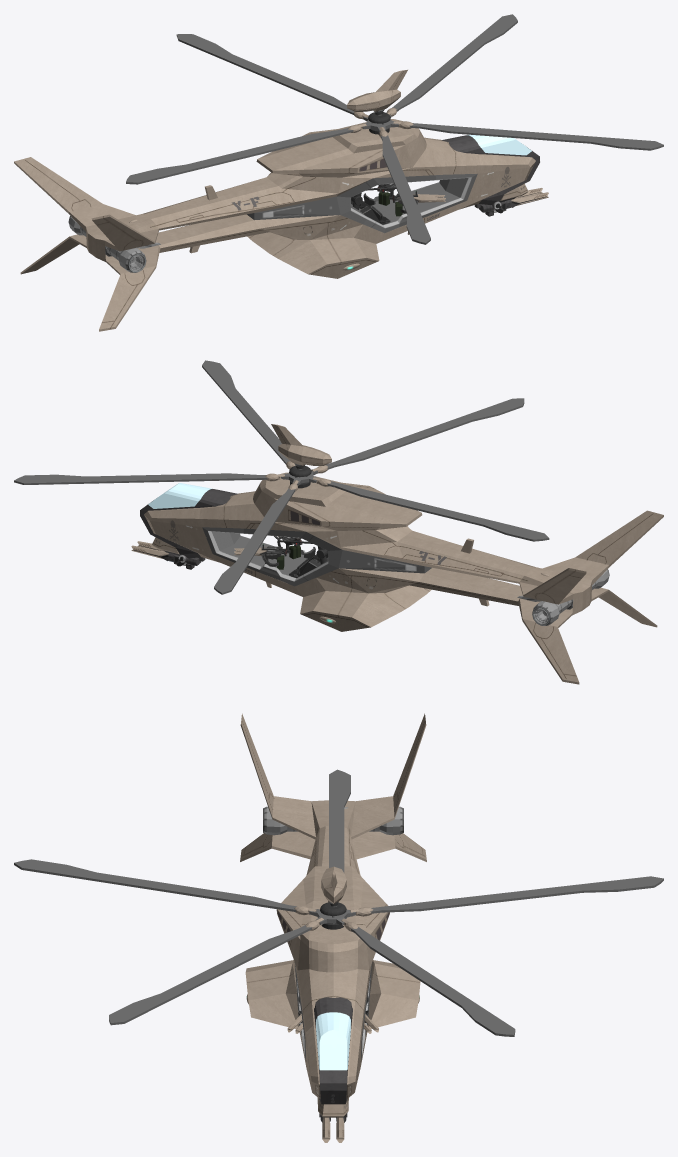
The picture shows the model from 3 angles, top to bottom: view 1: azimuth 30°, elevation 25°; view 2: azimuth 150°, elevation 25°; view 3: azimuth 270°, elevation 25°; orthographic projection. The views are drawn at different scales.
Parts seen in each view (by area): view 1: skfb_offset; view 2: skfb_offset; view 3: skfb_offset.
Boxes of the visible parts, x1=… form: skfb_offset: x1=14, y1=14, x2=663, y2=331; skfb_offset: x1=14, y1=360, x2=663, y2=684; skfb_offset: x1=14, y1=713, x2=663, y2=1142.
Bounding box in the file's own units: 94584 × 27429 × 84305.
Materials: 1 (1 with a texture image).
